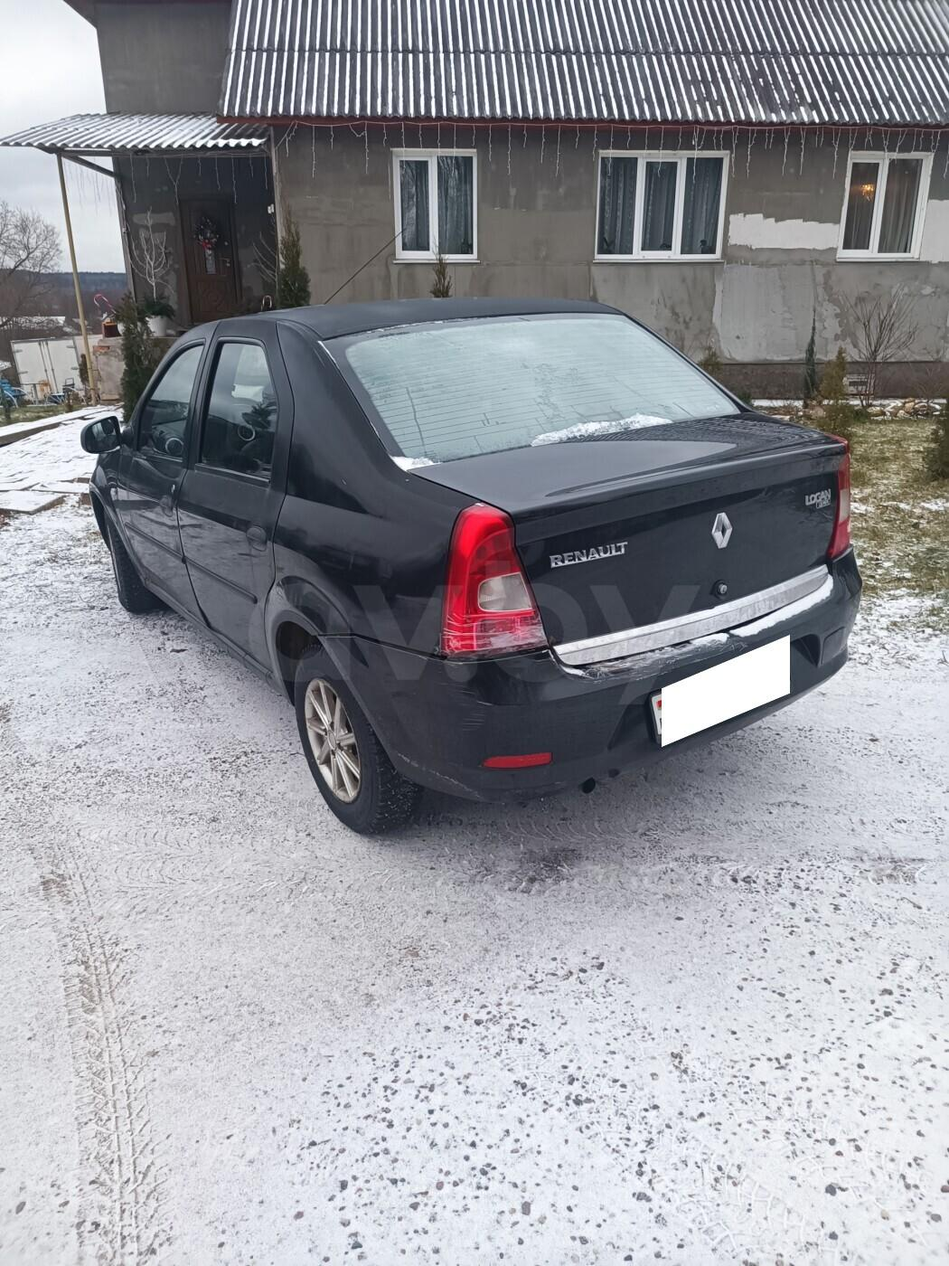Logan_2008-2015: (87, 289, 862, 837)
